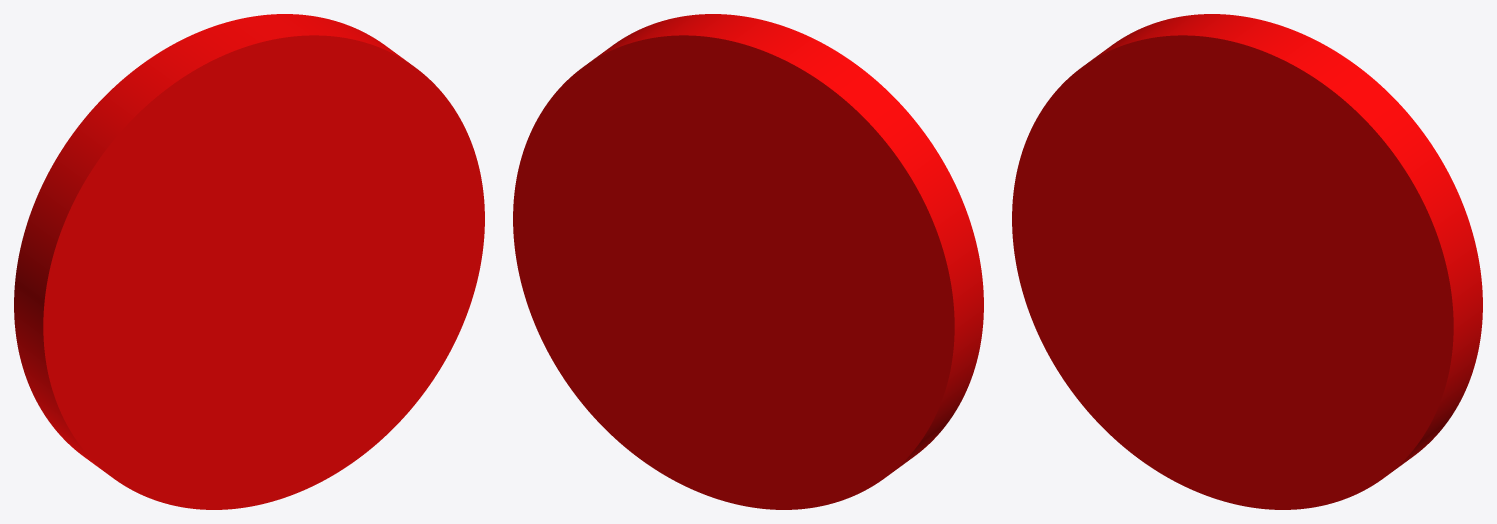
File: ChipRed.dae
The picture shows the model from 3 angles, left to right: view 1: azimuth 30°, elevation 25°; view 2: azimuth 150°, elevation 25°; view 3: azimuth 330°, elevation 25°; orthographic projection.
Parts seen in each view (by area): view 1: Cylinder; view 2: Cylinder; view 3: Cylinder.
Boxes of the visible parts, x1,y1,x2,y2 form: Cylinder: [14, 14, 484, 509]; Cylinder: [513, 14, 983, 509]; Cylinder: [1012, 14, 1482, 509].
Bounding box in the file's own units: 69.65 × 69.65 × 8.
